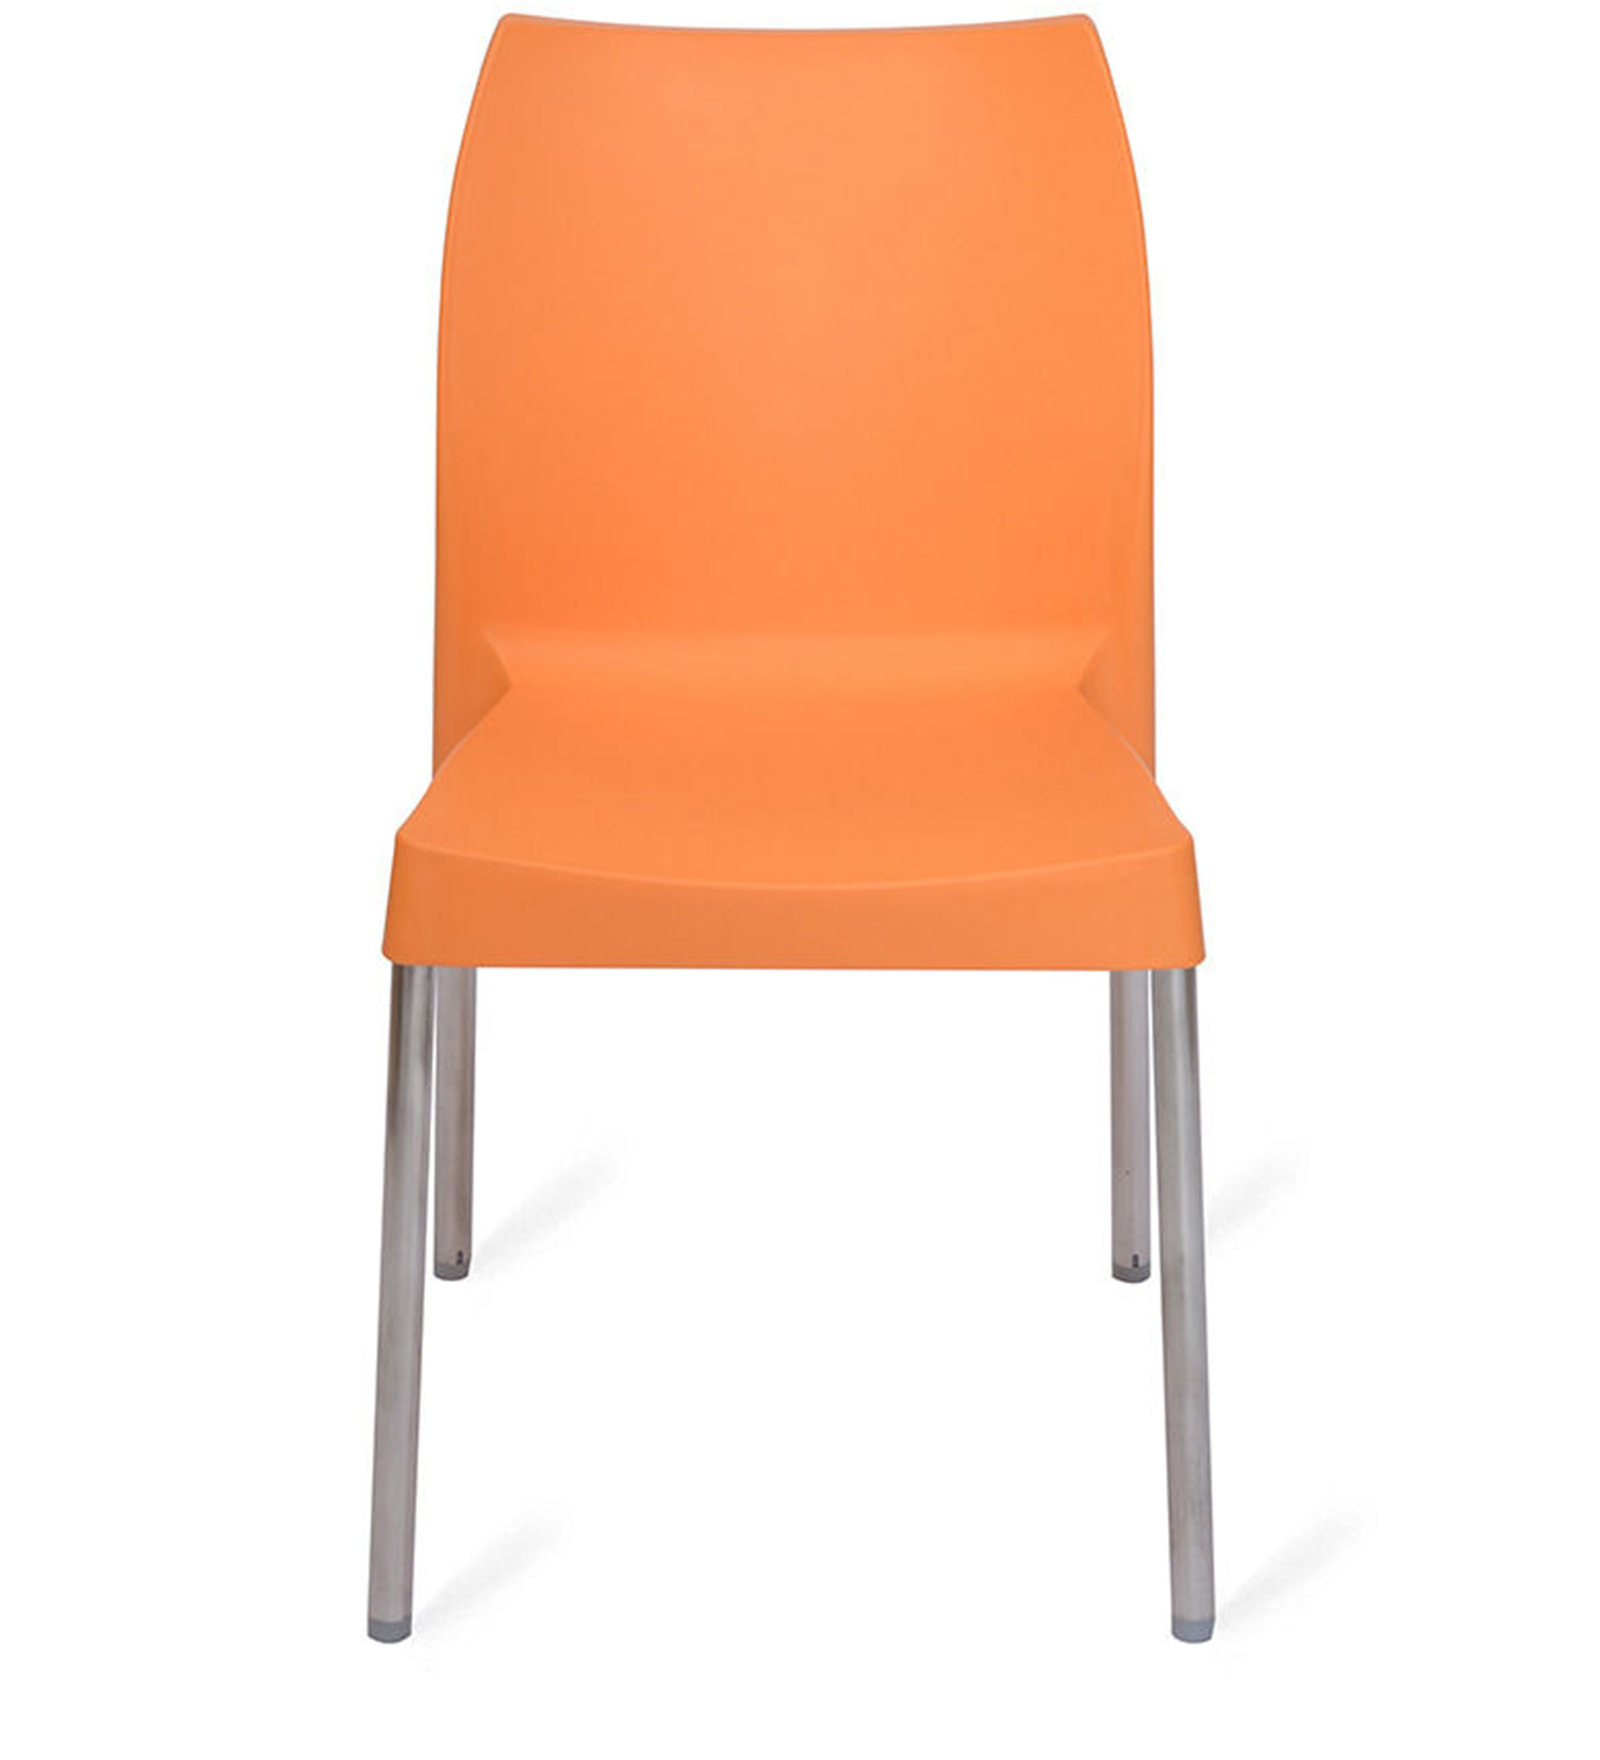Novella Plastic Chair in Orange by Nilkamal: (365, 12, 1248, 1653)
